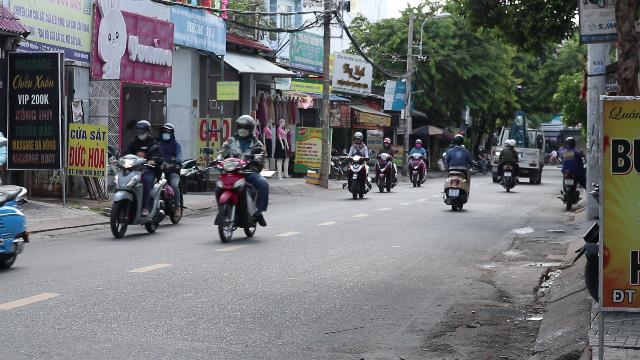helmet: (233, 114, 255, 136), (133, 119, 151, 139)
motorcyclist: (207, 114, 271, 243), (104, 119, 168, 238)
